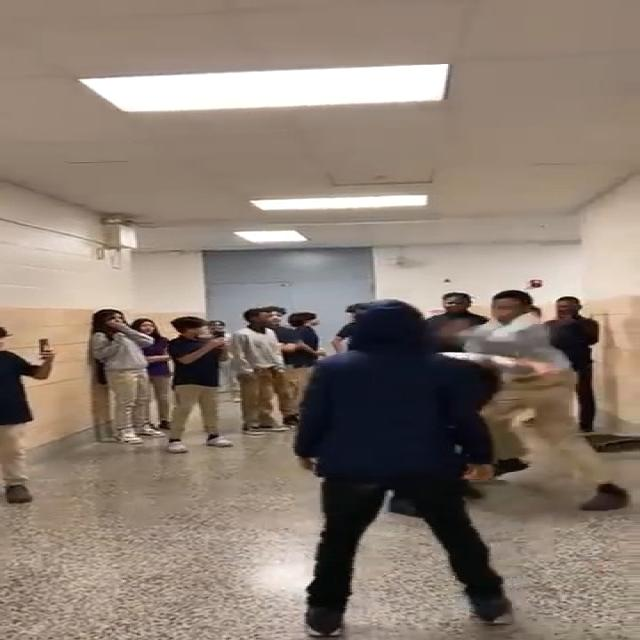fight: (443, 292, 596, 510)
